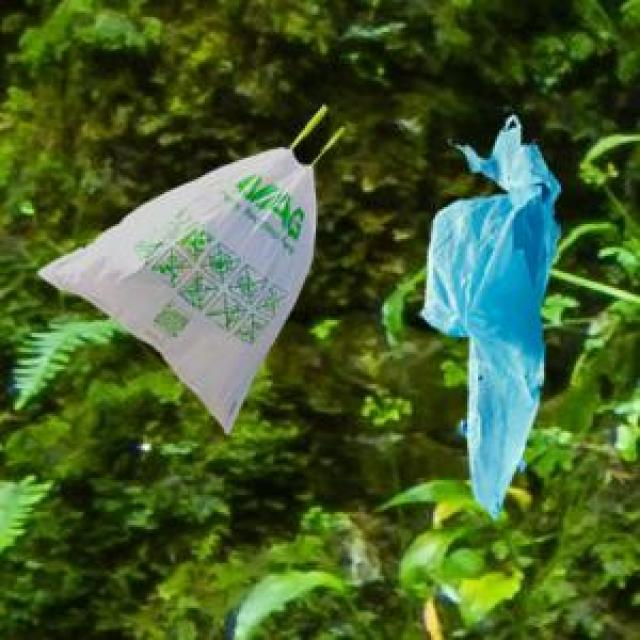plastic: (28, 88, 621, 536)
